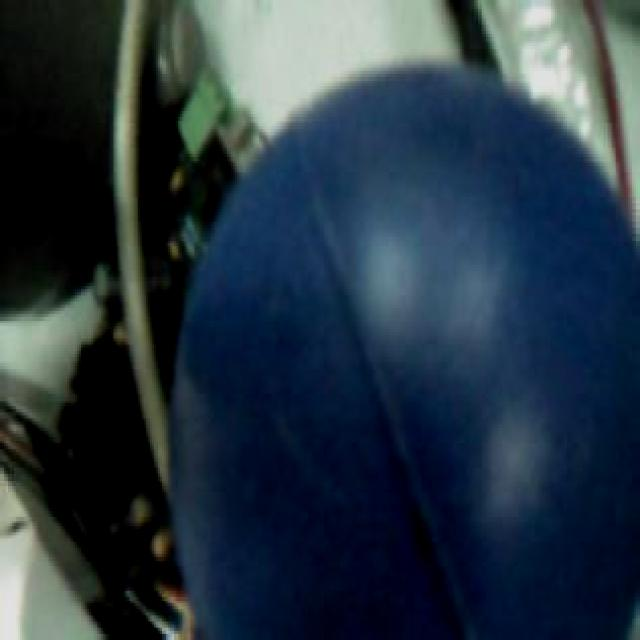BallPurple: (166, 58, 640, 637)
